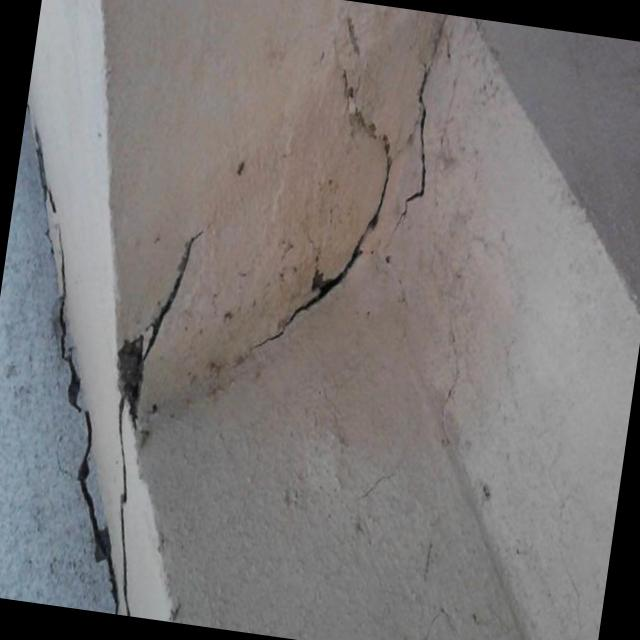crack: (253, 64, 391, 349), (115, 232, 202, 616), (52, 233, 118, 606), (397, 67, 430, 219)
